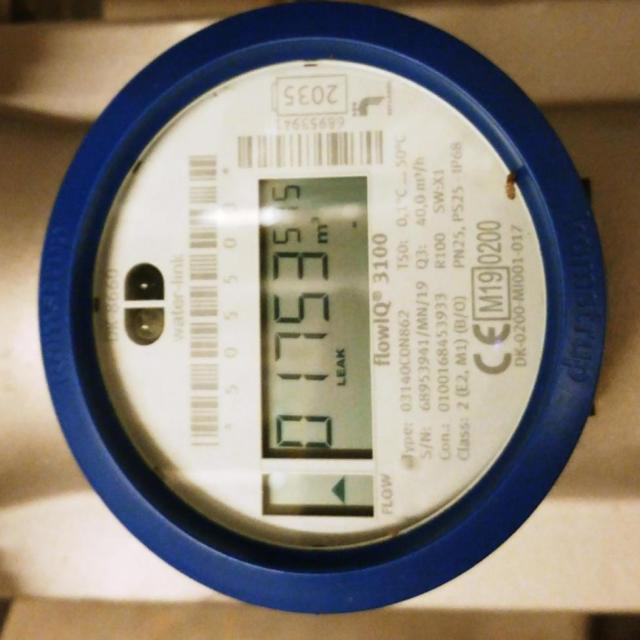gaz_meter: (96, 62, 553, 547)
indication: (259, 177, 373, 457)
